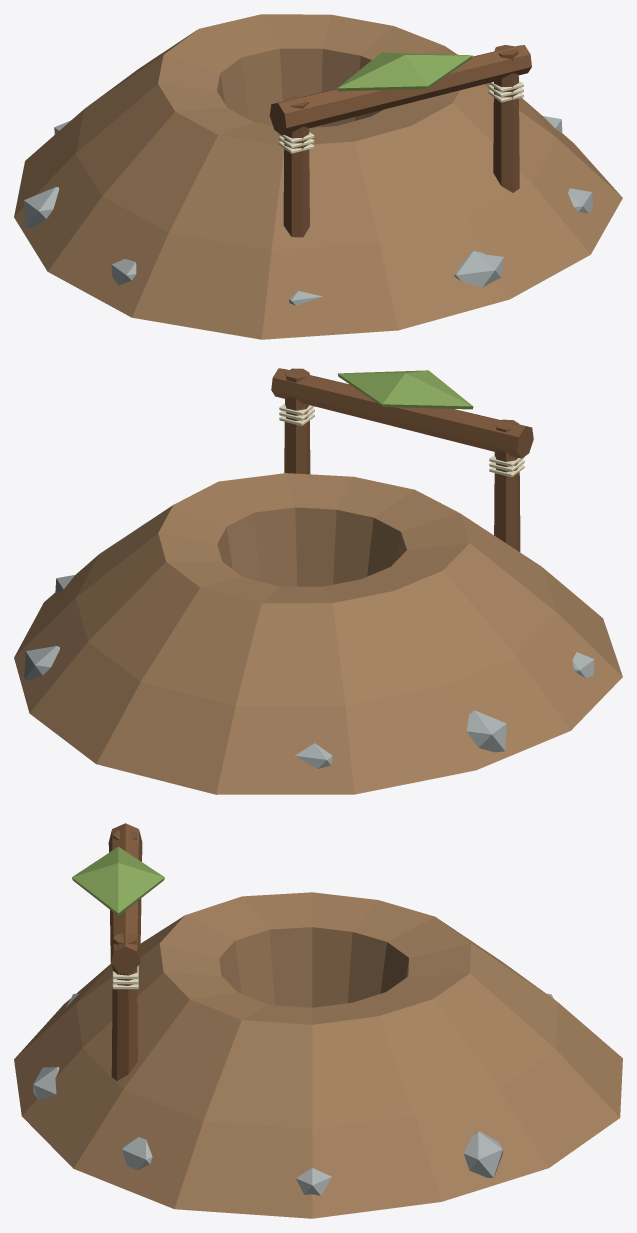
Rendered from CC_NestEntrance.fbx.
3 views of the same model, one above another, from view 1: azimuth 30°, elevation 25°; view 2: azimuth 150°, elevation 25°; view 3: azimuth 270°, elevation 25° (orthographic).
Parts seen in each view (by area): view 1: Open mound, Lintel, Leaf banner, Entry post.001, Entry post, Rim pebble.007, Rim pebble.004, Rim pebble.005, Rim pebble.008; view 2: Open mound, Lintel, Leaf banner, Entry post, Entry post.001, Rim pebble.004, Rim pebble.001, Rim pebble.003; view 3: Open mound, Leaf banner, Entry post.001, Lintel, Rim pebble.001, Rim pebble.008, Rim pebble, Rim pebble.007.
Boxes of the visible parts, box(x1,y1,x2,y2) form: Open mound: box(14, 14, 622, 339); Lintel: box(269, 45, 531, 135); Leaf banner: box(337, 52, 472, 91); Entry post.001: box(493, 45, 519, 192); Entry post: box(283, 96, 309, 237); Rim pebble.007: box(454, 251, 503, 287); Rim pebble.004: box(24, 187, 59, 228); Rim pebble.005: box(111, 259, 136, 285); Rim pebble.008: box(568, 188, 592, 213); Open mound: box(14, 473, 622, 794); Lintel: box(271, 368, 533, 458); Leaf banner: box(337, 370, 473, 409); Entry post: box(494, 419, 520, 551); Entry post.001: box(284, 368, 310, 474); Rim pebble.004: box(466, 710, 506, 752); Rim pebble.001: box(24, 646, 59, 680); Rim pebble.003: box(295, 743, 332, 768); Open mound: box(14, 892, 622, 1218); Leaf banner: box(72, 846, 164, 915); Entry post.001: box(111, 933, 137, 1080); Lintel: box(108, 823, 142, 972); Rim pebble.001: box(464, 1131, 502, 1177); Rim pebble.008: box(121, 1137, 152, 1170); Rim pebble: box(296, 1168, 331, 1195); Rim pebble.007: box(33, 1067, 59, 1100).
Bounding box in the file's own units: 6.4 × 2.67 × 6.36.
